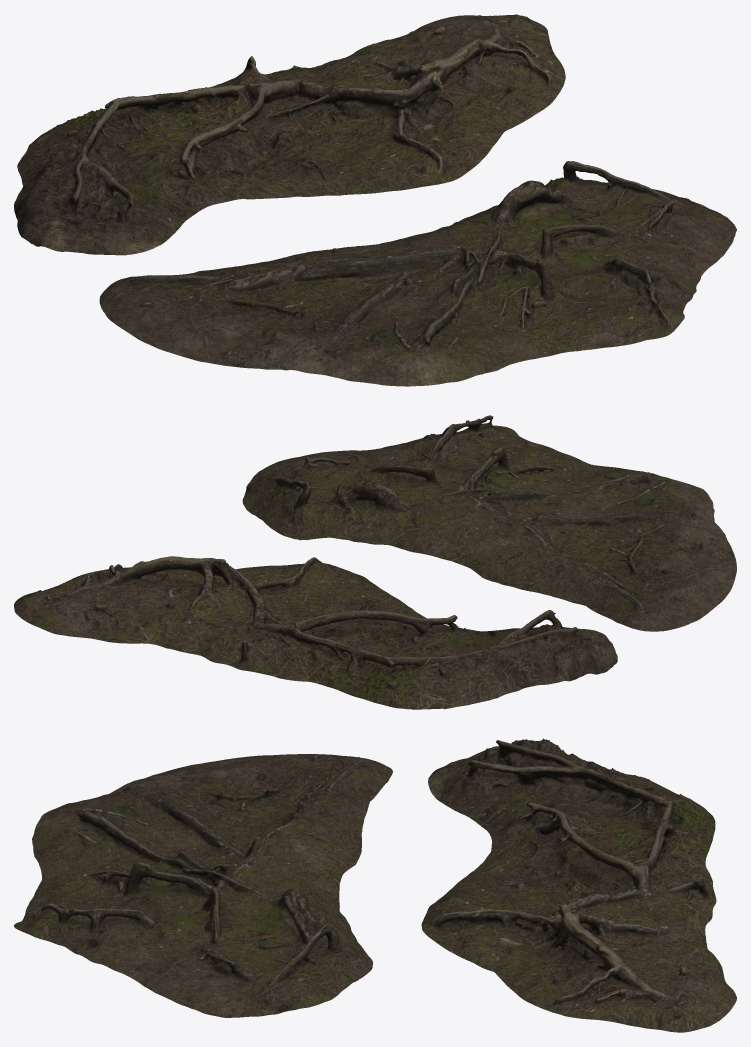
Rendered from pine_roots_2k.fbx.
3 renders of one model, top to bottom at view 1: azimuth 30°, elevation 25°; view 2: azimuth 150°, elevation 25°; view 3: azimuth 270°, elevation 25°, orthographic. The views are drawn at different scales.
Visible parts, largest first — view 1: pine_roots_b, pine_roots_a; view 2: pine_roots_b, pine_roots_a; view 3: pine_roots_b, pine_roots_a.
Part boxes in pixels (<box>): pine_roots_b: <box>99,161,736,386</box>; pine_roots_a: <box>14,14,565,255</box>; pine_roots_b: <box>242,415,736,631</box>; pine_roots_a: <box>14,556,617,709</box>; pine_roots_b: <box>14,754,392,1017</box>; pine_roots_a: <box>421,738,736,1032</box>.
Bounding box in the file's own units: 177 × 15.48 × 189.
Materials: 2 (2 with a texture image).
